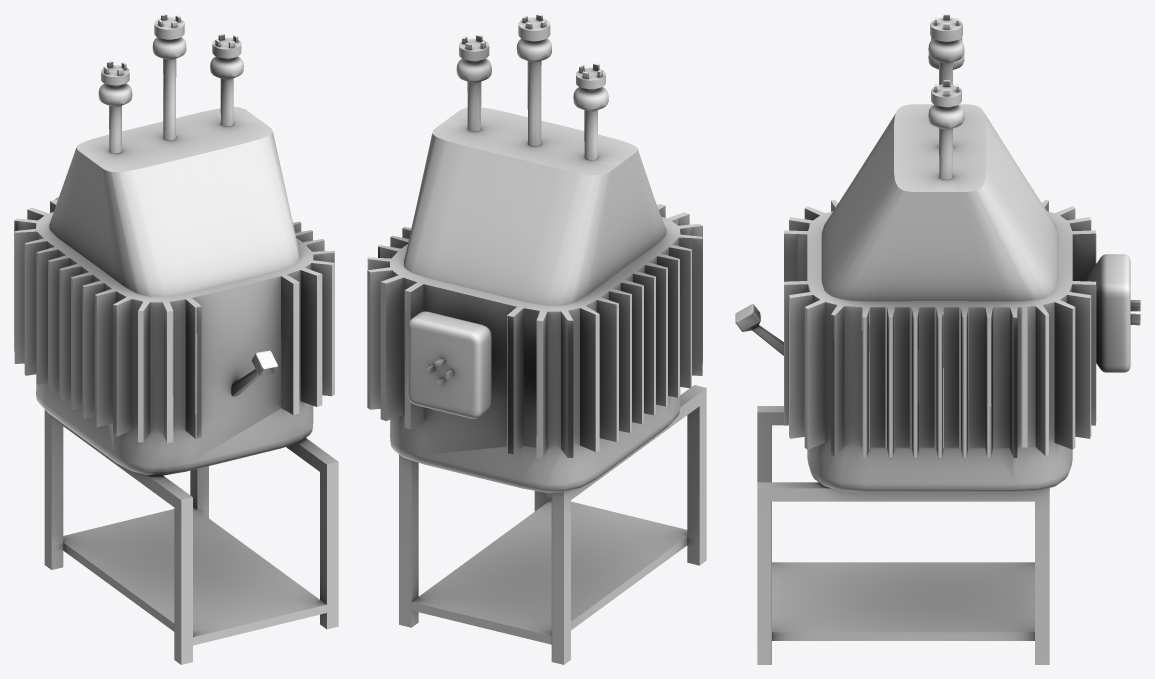
Rendered from PowerStation.fbx.
The picture shows the model from 3 angles, left to right: view 1: azimuth 30°, elevation 25°; view 2: azimuth 150°, elevation 25°; view 3: azimuth 270°, elevation 25°; orthographic projection. The views are drawn at different scales.
Visible parts, largest first — view 1: PowerStation; view 2: PowerStation; view 3: PowerStation.
Boxes of the visible parts, box(x1,y1,x2,y2) form: PowerStation: box(14, 14, 338, 664); PowerStation: box(367, 14, 706, 664); PowerStation: box(735, 14, 1140, 664).
Size of the model in its own units: 0.2558 by 0.6015 by 0.3664.
